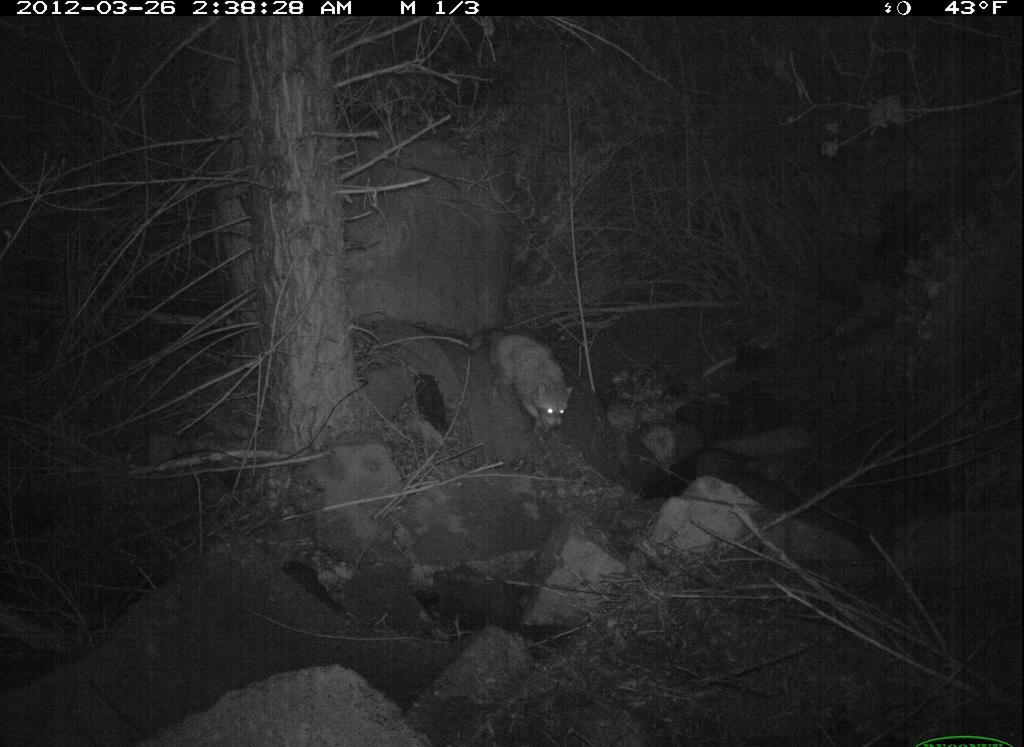raccoon: (477, 321, 583, 437)
